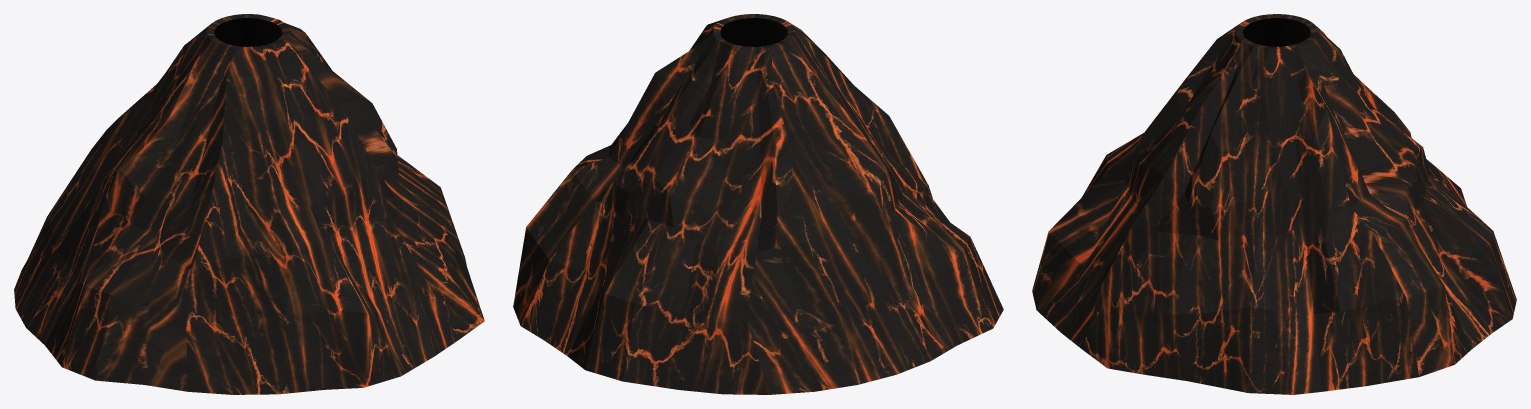
Rendered from volcano.fbx.
3 views of the same model, side by side, from view 1: azimuth 30°, elevation 25°; view 2: azimuth 150°, elevation 25°; view 3: azimuth 270°, elevation 25° (orthographic).
Visible parts, largest first — view 1: Cylinder; view 2: Cylinder; view 3: Cylinder.
Part boxes in pixels (x1,y1,x2,y2): Cylinder: (14,14,484,394); Cylinder: (513,14,1003,394); Cylinder: (1032,14,1516,394).
Size of what is drawn, in the model's own units: 518 by 312 by 521.
Materials: 2 (1 with a texture image).
